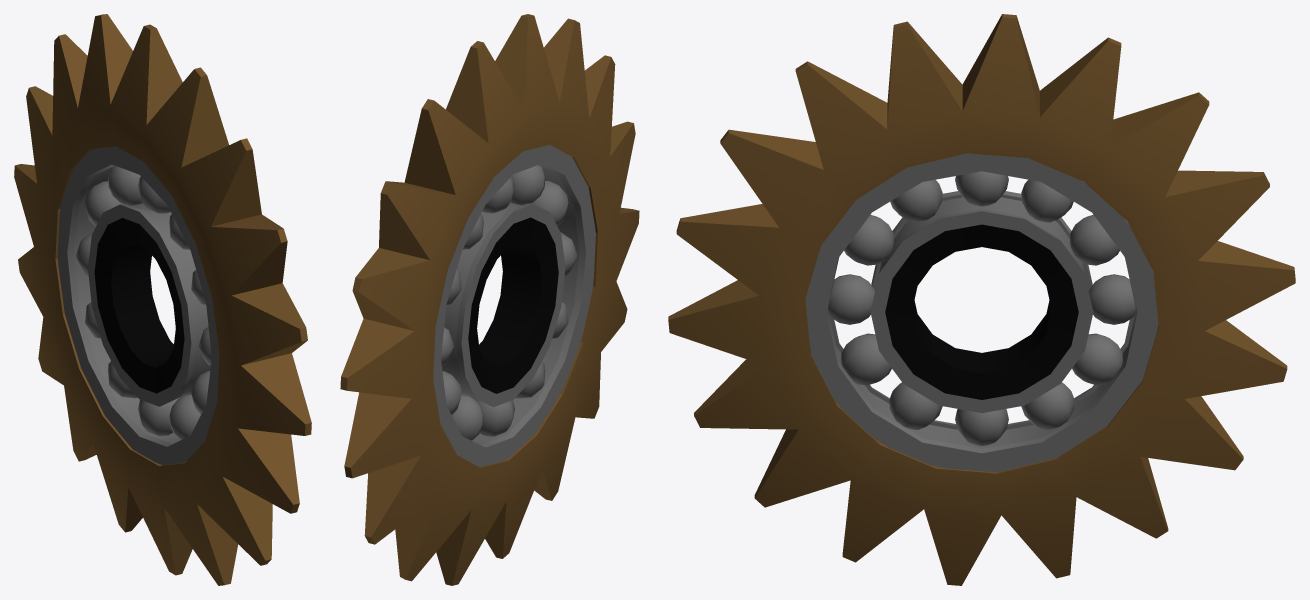
Rendered from bearing.fbx.
3 views of the same model, side by side, from view 1: azimuth 30°, elevation 25°; view 2: azimuth 150°, elevation 25°; view 3: azimuth 270°, elevation 25° (orthographic). The views are drawn at different scales.
Parts seen in each view (by area): view 1: gear, bearing_outterring, innerpart_bearing, inner_bearingring, ball_b1, ball_b7, ball_b6, ball_b2, ball_b, ball_b8, ball_b5, ball_b3; view 2: gear, bearing_outterring, innerpart_bearing, inner_bearingring, ball_b11, ball_b5, ball_b6, ball_b10, ball_b, ball_b4, ball_b7, ball_b9; view 3: gear, bearing_outterring, innerpart_bearing, inner_bearingring, ball_b9, ball_b3, ball_b4, ball_b8, ball_b2, ball_b10, ball_b5, ball_b7 (+4 smaller).
Part boxes in pixels (x1,y1,x2,y2): gear: [14, 14, 311, 585]; bearing_outterring: [57, 146, 219, 465]; innerpart_bearing: [94, 218, 184, 393]; inner_bearingring: [88, 203, 210, 406]; ball_b1: [108, 166, 142, 205]; ball_b7: [169, 394, 200, 439]; ball_b6: [138, 397, 180, 436]; ball_b2: [85, 181, 122, 226]; ball_b: [138, 177, 170, 213]; ball_b8: [191, 371, 210, 414]; ball_b5: [108, 361, 137, 398]; ball_b3: [76, 232, 92, 275]; gear: [340, 14, 639, 585]; bearing_outterring: [433, 145, 595, 466]; innerpart_bearing: [468, 217, 558, 393]; inner_bearingring: [442, 203, 565, 407]; ball_b11: [510, 165, 545, 205]; ball_b5: [452, 395, 483, 440]; ball_b6: [472, 398, 514, 436]; ball_b10: [530, 181, 568, 226]; ball_b: [482, 176, 514, 213]; ball_b4: [442, 371, 461, 415]; ball_b7: [515, 361, 545, 398]; ball_b9: [560, 232, 577, 275]; gear: [668, 14, 1295, 585]; bearing_outterring: [805, 153, 1158, 472]; innerpart_bearing: [885, 224, 1078, 399]; inner_bearingring: [870, 191, 1093, 413]; ball_b9: [828, 274, 874, 324]; ball_b3: [1089, 274, 1135, 324]; ball_b4: [1072, 333, 1122, 385]; ball_b8: [841, 333, 891, 385]; ball_b2: [1069, 214, 1119, 265]; ball_b10: [844, 214, 894, 265]; ball_b5: [1021, 382, 1074, 429]; ball_b7: [889, 382, 942, 429].
Size of the model in its own units: 28.38 by 280 by 280.
